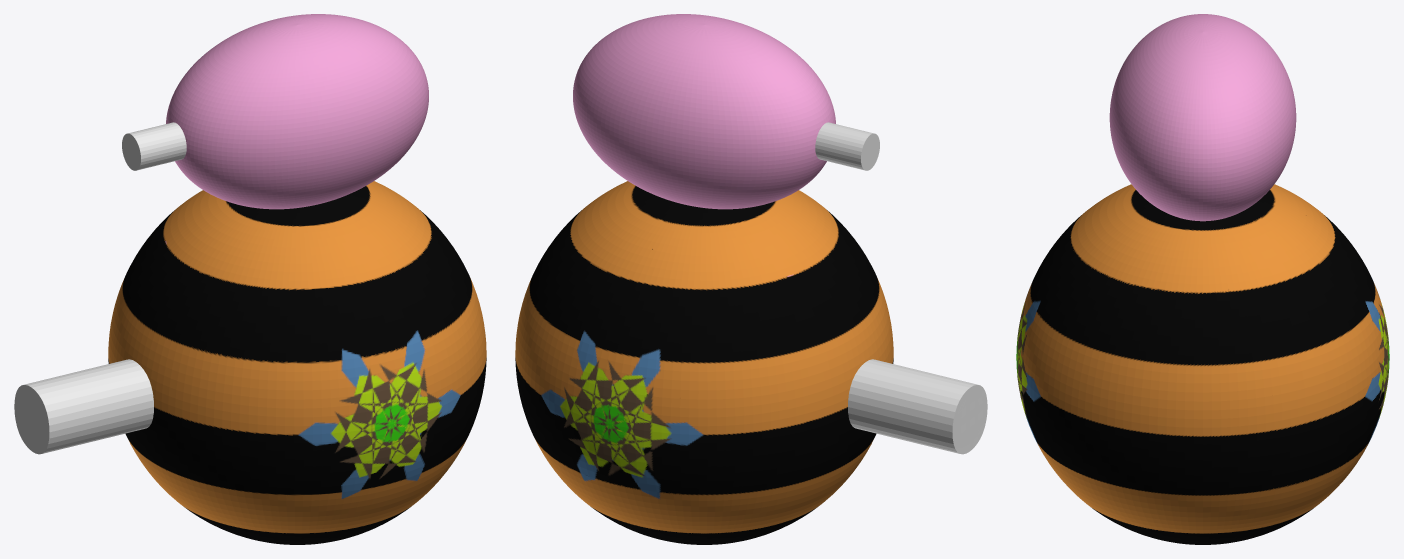
The model's file is BOD0_BMC5_BCC1_BPT1_FRC26_HEA1_HMC17_HCC12_HPT0_ELT1_ERT0_ELL2_ERL1_AP1_AAL0_AAR1_BEK0.fbx.
3 views of the same model, side by side, from view 1: azimuth 30°, elevation 25°; view 2: azimuth 150°, elevation 25°; view 3: azimuth 270°, elevation 25° (orthographic).
Parts seen in each view (by area): view 1: Body, Arm, Ear; view 2: Body, Arm, Ear; view 3: Body.
Boxes of the visible parts, <box> form: Body: <box>108,14,486,544</box>; Arm: <box>14,359,153,454</box>; Ear: <box>122,122,186,170</box>; Body: <box>515,14,893,544</box>; Arm: <box>848,359,987,454</box>; Ear: <box>815,122,879,170</box>; Body: <box>1016,14,1389,544</box>.
Bounding box in the file's own units: 64.68 × 72.41 × 49.36.
1 material, 1 textured.
